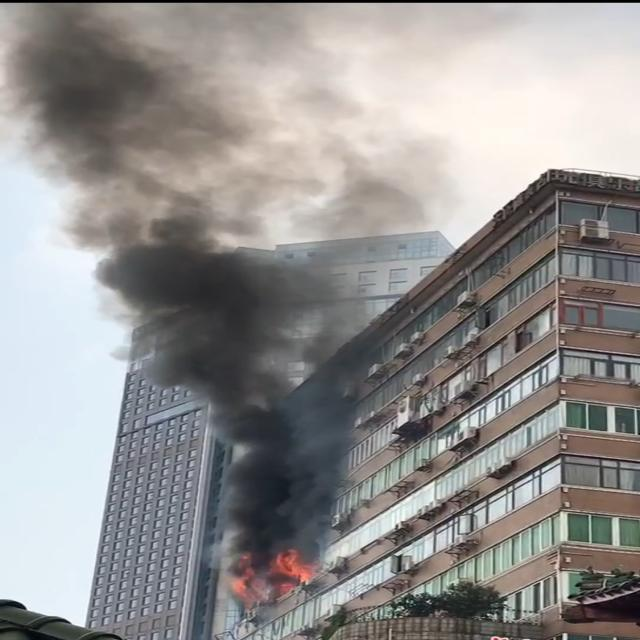Fire: (220, 546, 320, 606)
Smoke: (3, 0, 450, 266), (97, 268, 352, 546)
